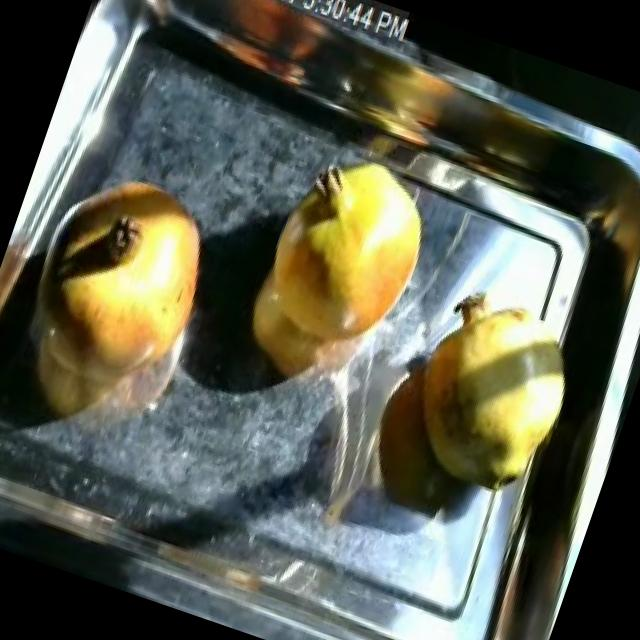fruit: (0, 137, 246, 443), (235, 128, 455, 380), (380, 269, 595, 515)
